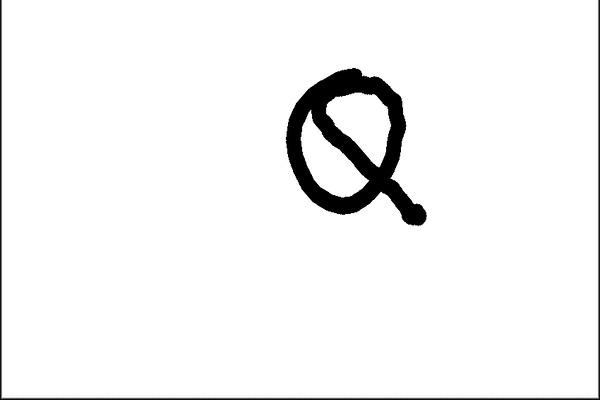Q: (270, 60, 434, 236)
